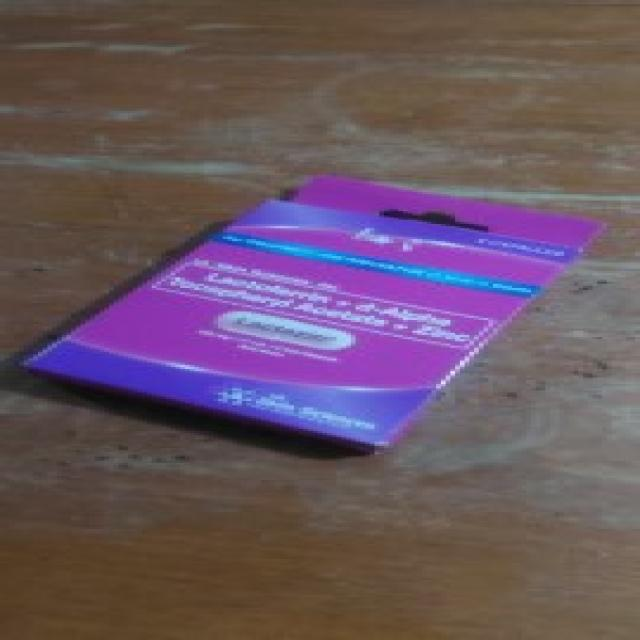Cacat: (12, 171, 595, 451)
